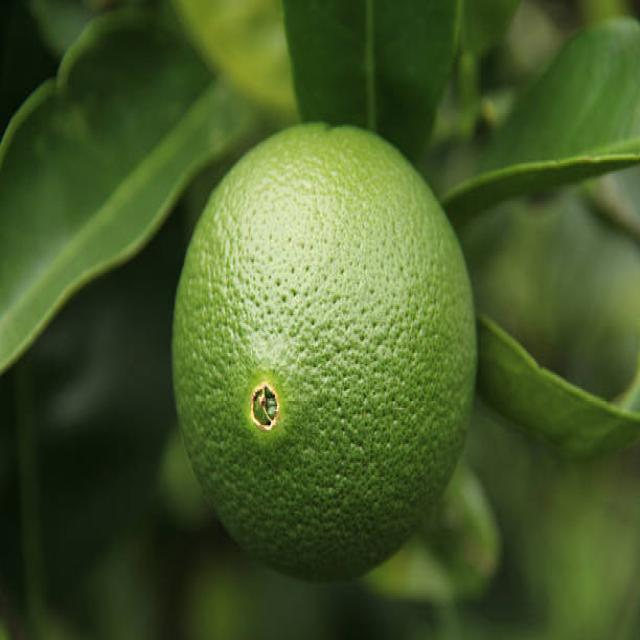Unripe: (169, 122, 478, 582)
